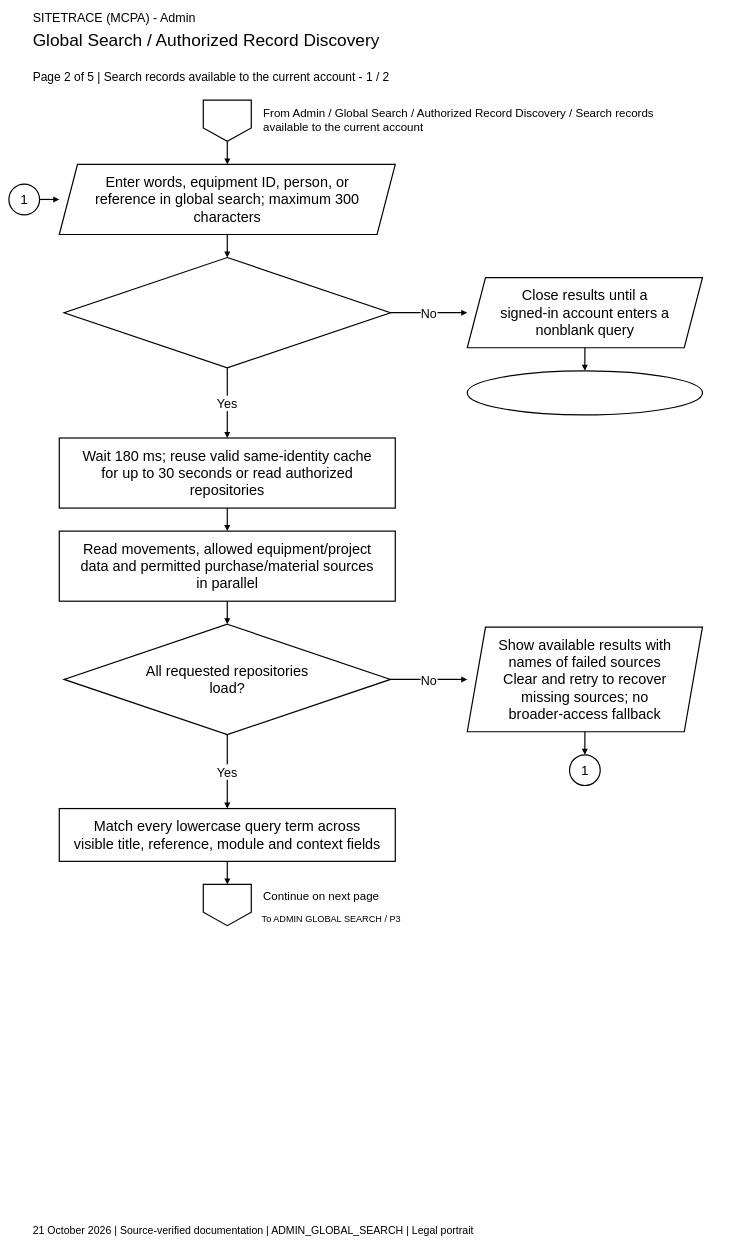
Image size: 747x1248. Some labels were removed from this diagram. Each missing label, with the centre of its shape:
"END ATTEMPT" goes at (584,392).
"FM" goes at (227,120).
"FP" goes at (227,905).
"Query is nonblank and an account identity exists?" goes at (227,312).
